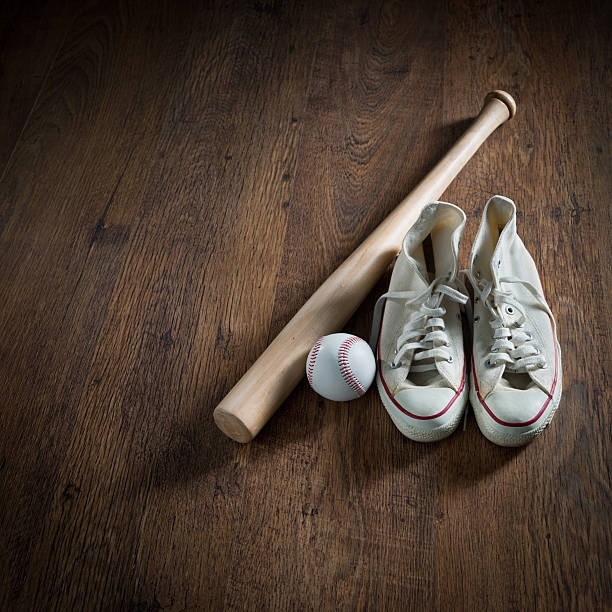bita: (206, 101, 514, 434)
